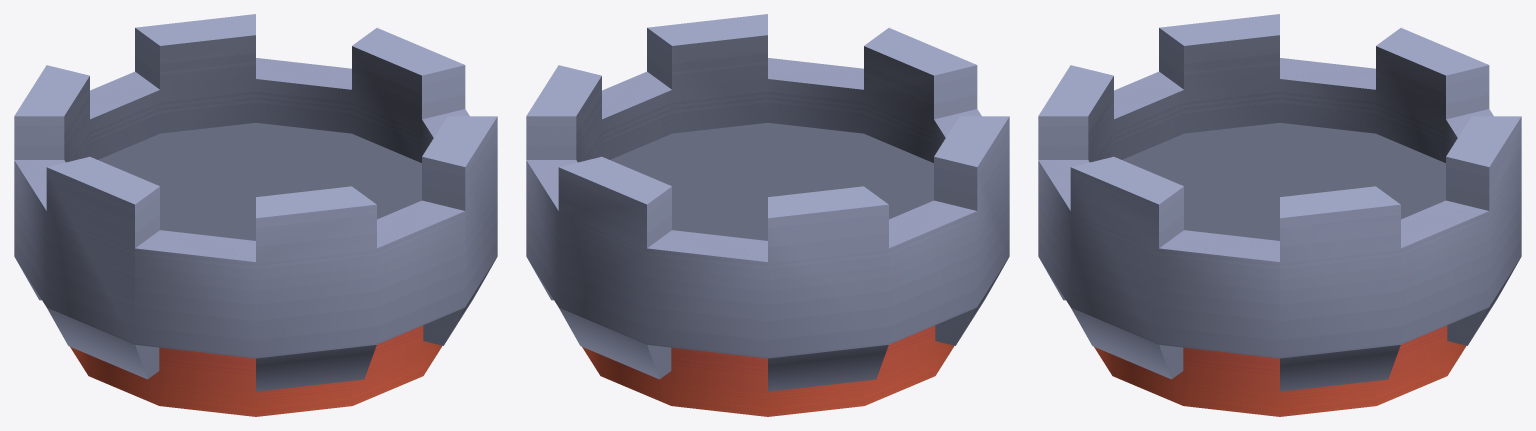
Rendered from tower-defense-kit--tower-round-top-b.glb.
3 renders of one model, left to right at view 1: azimuth 30°, elevation 25°; view 2: azimuth 150°, elevation 25°; view 3: azimuth 270°, elevation 25°, orthographic.
Visible parts, largest first — view 1: tower-round-top-b; view 2: tower-round-top-b; view 3: tower-round-top-b.
Part boxes in pixels (x1,y1,x2,y2): tower-round-top-b: [14, 14, 497, 416]; tower-round-top-b: [526, 14, 1009, 416]; tower-round-top-b: [1038, 14, 1521, 416].
Size of the model in its own units: 1 by 0.5 by 1.
Materials: 1 (1 with a texture image).
